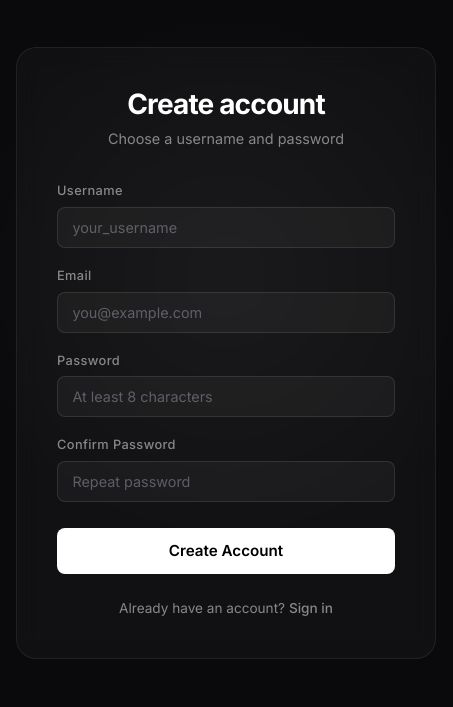
Test: SignUp form — validation › rejects username shorter than 3 characters
Step 1. Type "ab" into the field labelled "Username" → {"x": 226, "y": 228}, box [57, 207, 395, 248]
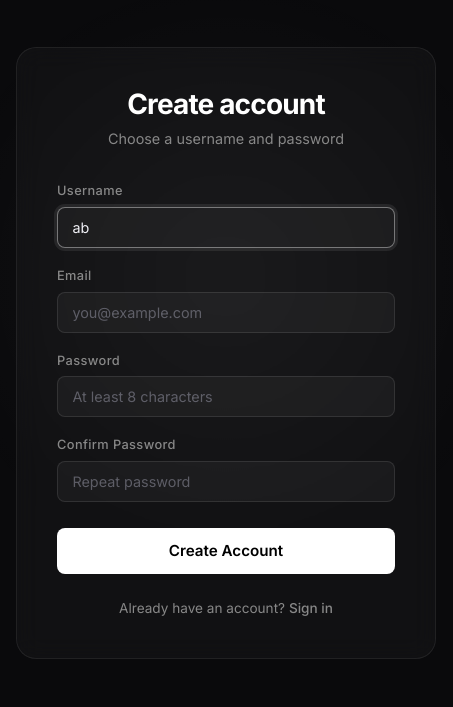
Step 2. Click the button "Create Account" → {"x": 226, "y": 551}, box [57, 528, 395, 574]
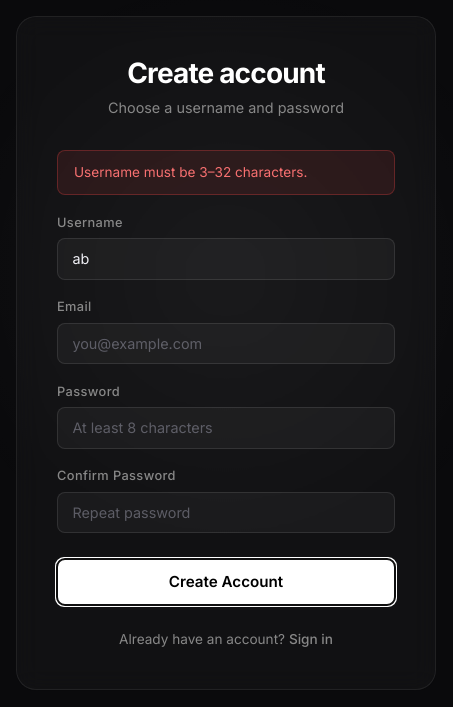
Result: the text "Username must be 3–32 characters." is shown at [57, 150, 395, 195]
